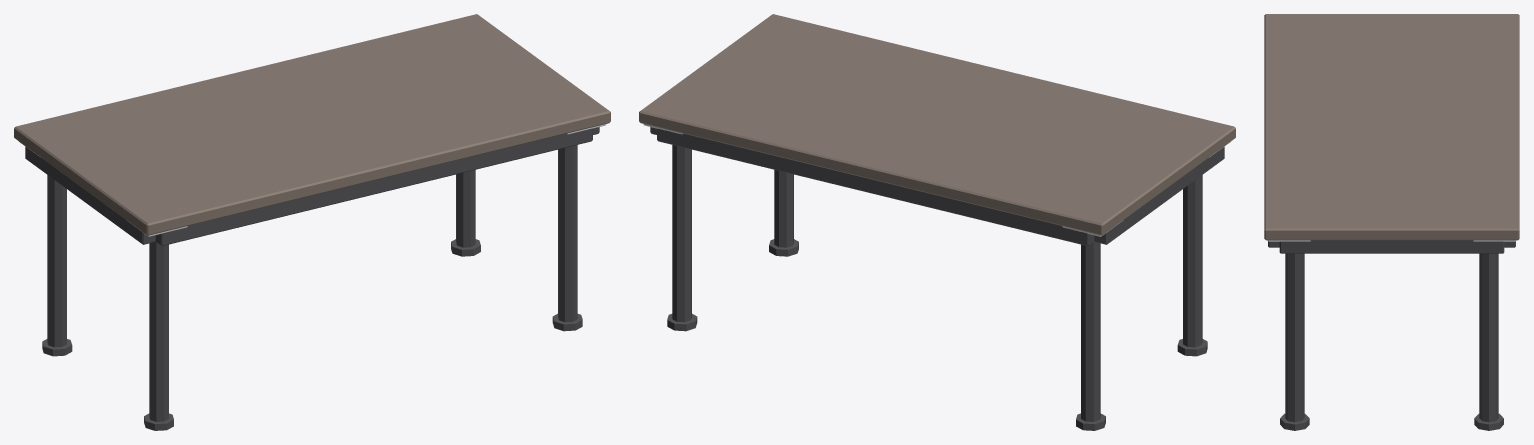
Rendered from theatre-stage-and-backstage-stage-deck-module-5173fe61.glb.
The picture shows the model from 3 angles, left to right: view 1: azimuth 30°, elevation 25°; view 2: azimuth 150°, elevation 25°; view 3: azimuth 270°, elevation 25°; orthographic projection. The views are drawn at different scales.
Parts seen in each view (by area): view 1: stage-deck-module; view 2: stage-deck-module; view 3: stage-deck-module.
Boxes of the visible parts, <box> form: stage-deck-module: <box>14,14,610,430</box>; stage-deck-module: <box>639,14,1235,430</box>; stage-deck-module: <box>1264,14,1519,430</box>.
Bounding box in the file's own units: 2 × 0.9 × 1.
